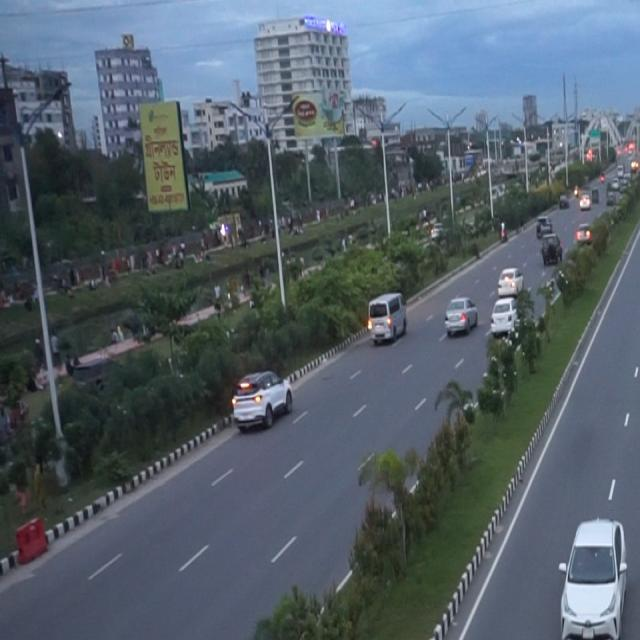car: (553, 506, 635, 640), (218, 348, 303, 444), (356, 280, 413, 350), (438, 284, 481, 344)
